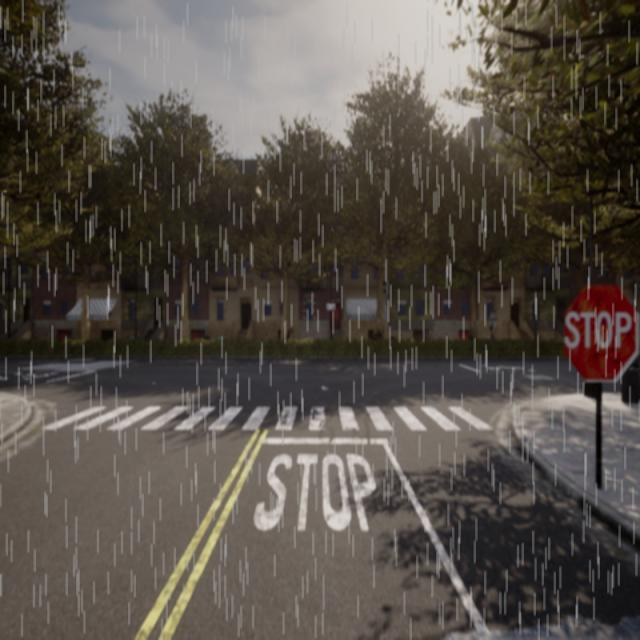stop sign: (560, 280, 639, 386)
